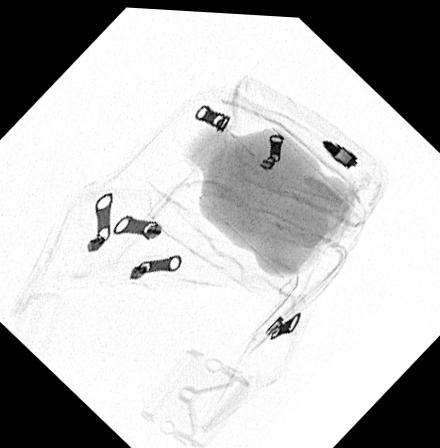Bullet: (323, 135, 358, 164)
